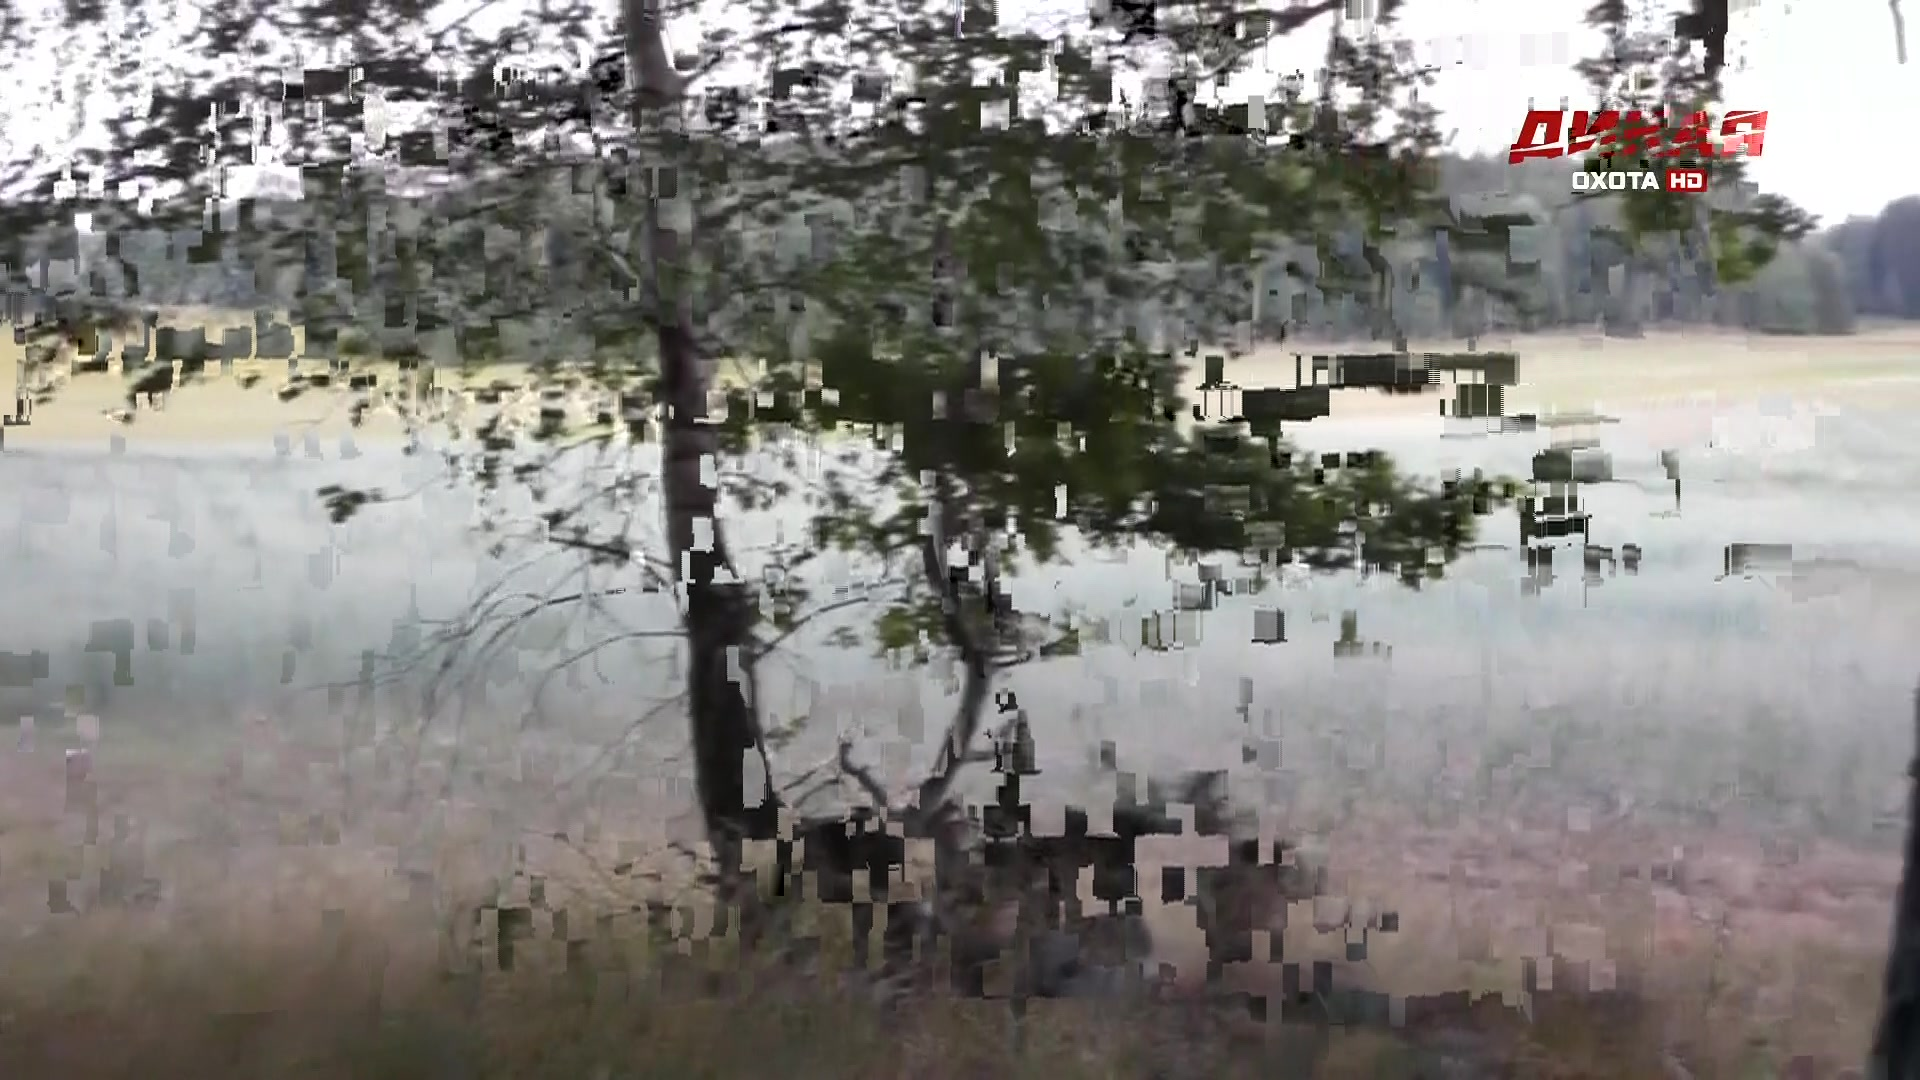Dikaya_Ohota_HD: (1507, 105, 1774, 194)
